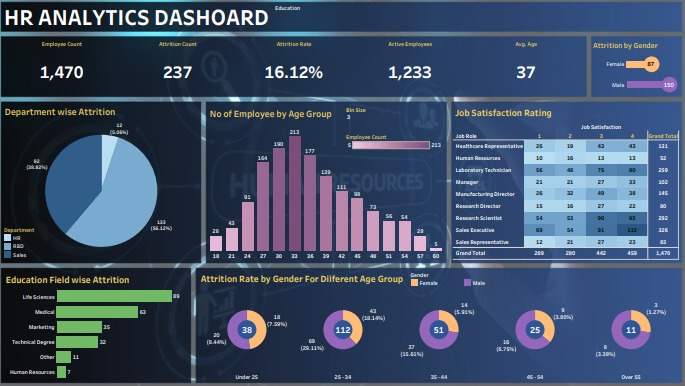

What the dashboard file says about the page in this screenshot:
{"tool":"tableau","page":{"name":"HR  ANALYTIC DASHBOARD","canvas":[1580,900],"ordinal":0},"visuals":[{"type":"image","param":"C:/Users/Prajwal/Downloads/HR background.pptx.png","box":[8,8,1564,884]},{"type":"text","box":[23,20,1097,63]},{"type":"filter","title":"Department wise Attrition","param":"[federated.1lp46691so31e218nnozd13yaw3c].[none:Education:nk]","box":[640,23,316,54]},{"type":"worksheet","title":"Attrition by Gender","mark":"Automatic","rows":["Gender"],"cols":["Calculation_273875153259102208","Calculation_273875153259102208"],"box":[1357,99,200,129]},{"type":"worksheet","title":"KPI","mark":"Automatic","box":[25,102,1316,128]},{"type":"worksheet","title":"Department wise Attrition","mark":"Pie","box":[23,246,445,358]},{"type":"worksheet","title":"Job Satisfaction Rating","mark":"Square","rows":["Job Role"],"cols":["Job Satisfaction"],"box":[1044,249,512,354]},{"type":"worksheet","title":"No of Employee by Age Group","mark":"Automatic","rows":["Employee Count"],"cols":["Age (bin)"],"box":[488,250,535,354]},{"type":"parameter","param":"[Parameters].[Age Parameter]","box":[801,253,219,59]},{"type":"legend","title":"No of Employee by Age Group","param":"[federated.1lp46691so31e218nnozd13yaw3c].[sum:Employee Count:qk]","box":[801,312,220,48]},{"type":"legend","title":"Department wise Attrition","param":"[federated.1lp46691so31e218nnozd13yaw3c].[none:Department:nk]","box":[24,524,140,78]},{"type":"worksheet","title":"Attrition Rate by Gender For Diiferent Age Group","mark":"Pie","rows":["Calculation_273875153297891332","Calculation_273875153297891332"],"cols":["CF_age band"],"box":[467,625,1089,252]},{"type":"legend","title":"Attrition Rate by Gender For Diiferent Age Group","param":"[federated.1lp46691so31e218nnozd13yaw3c].[none:Gender:nk]","box":[946,626,352,44]},{"type":"worksheet","title":"Education Field wise Attrition","mark":"Automatic","rows":["Education Field"],"cols":["Calculation_273875153259102208"],"box":[25,627,418,248]}]}

Visuals, with their boxes in screenshot pixels (x1, y1, x2, y2), scaled from the page's 1580x900 canvas onto the 685x386 screenshot:
image: box(3, 3, 682, 383)
text: box(10, 9, 486, 36)
"Department wise Attrition" filter: box(277, 10, 414, 33)
"Attrition by Gender" worksheet: box(588, 42, 675, 98)
"KPI" worksheet: box(11, 44, 581, 99)
"Department wise Attrition" worksheet (Pie marks): box(10, 106, 203, 259)
"Job Satisfaction Rating" worksheet (Square marks): box(453, 107, 675, 259)
"No of Employee by Age Group" worksheet: box(212, 107, 444, 259)
parameter: box(347, 109, 442, 134)
"No of Employee by Age Group" legend: box(347, 134, 443, 154)
"Department wise Attrition" legend: box(10, 225, 71, 258)
"Attrition Rate by Gender For Diiferent Age Group" worksheet (Pie marks): box(202, 268, 675, 376)
"Attrition Rate by Gender For Diiferent Age Group" legend: box(410, 268, 563, 287)
"Education Field wise Attrition" worksheet: box(11, 269, 192, 375)
